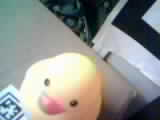duck: (13, 51, 110, 118)
